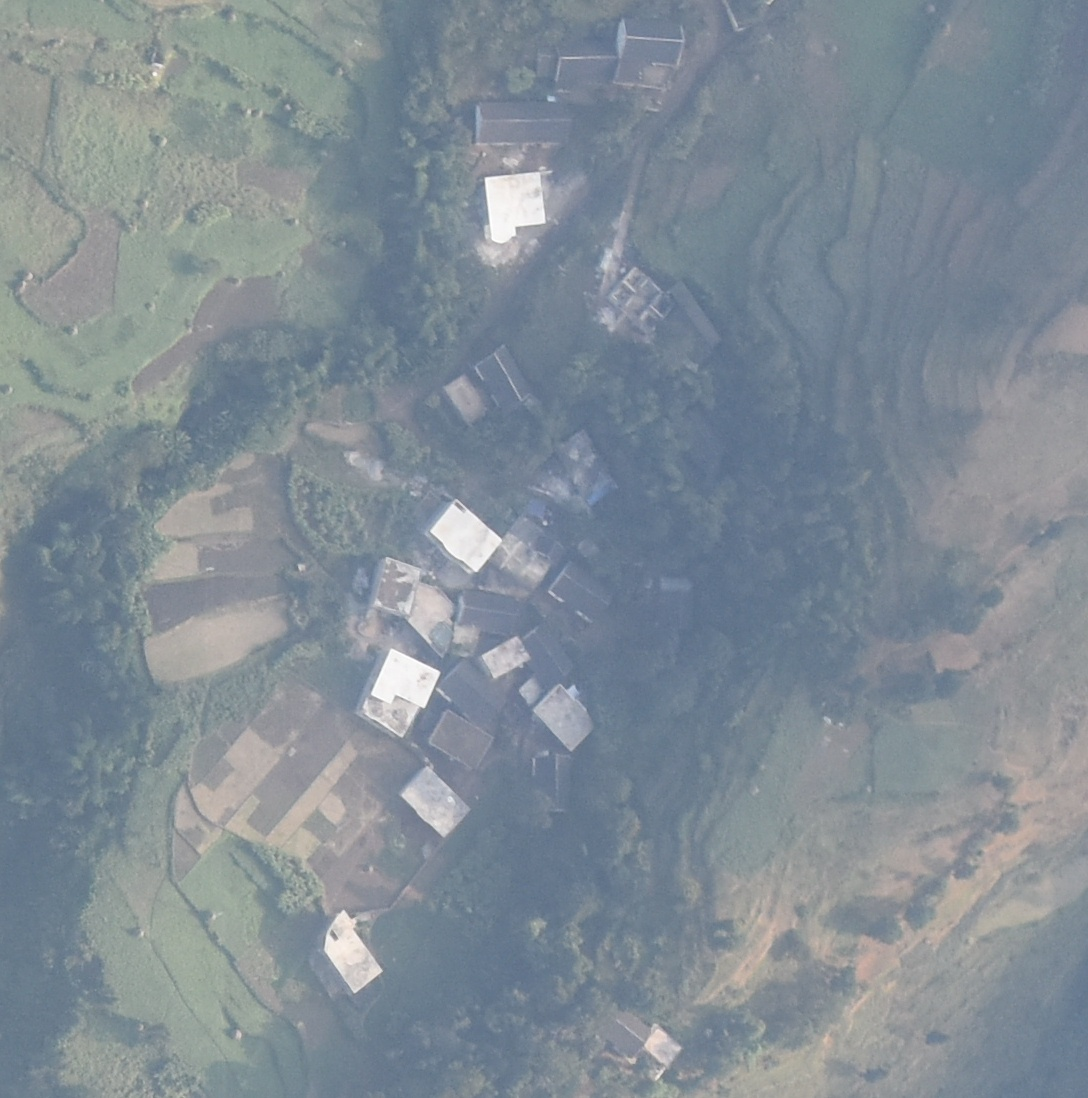building: (355, 647, 439, 737), (420, 498, 505, 573), (492, 514, 569, 591), (552, 429, 625, 507), (318, 910, 383, 994), (399, 765, 470, 837), (621, 15, 685, 90), (438, 660, 511, 725), (661, 280, 724, 355), (482, 171, 546, 244), (475, 99, 572, 145), (531, 685, 598, 751), (609, 267, 675, 332), (473, 346, 536, 413), (549, 562, 614, 624), (408, 580, 456, 658), (430, 711, 496, 767), (592, 998, 653, 1058), (456, 588, 520, 636), (368, 558, 420, 617), (522, 626, 574, 684), (553, 38, 620, 83), (635, 1026, 682, 1083), (533, 753, 574, 812), (441, 374, 484, 426), (480, 636, 530, 677)
